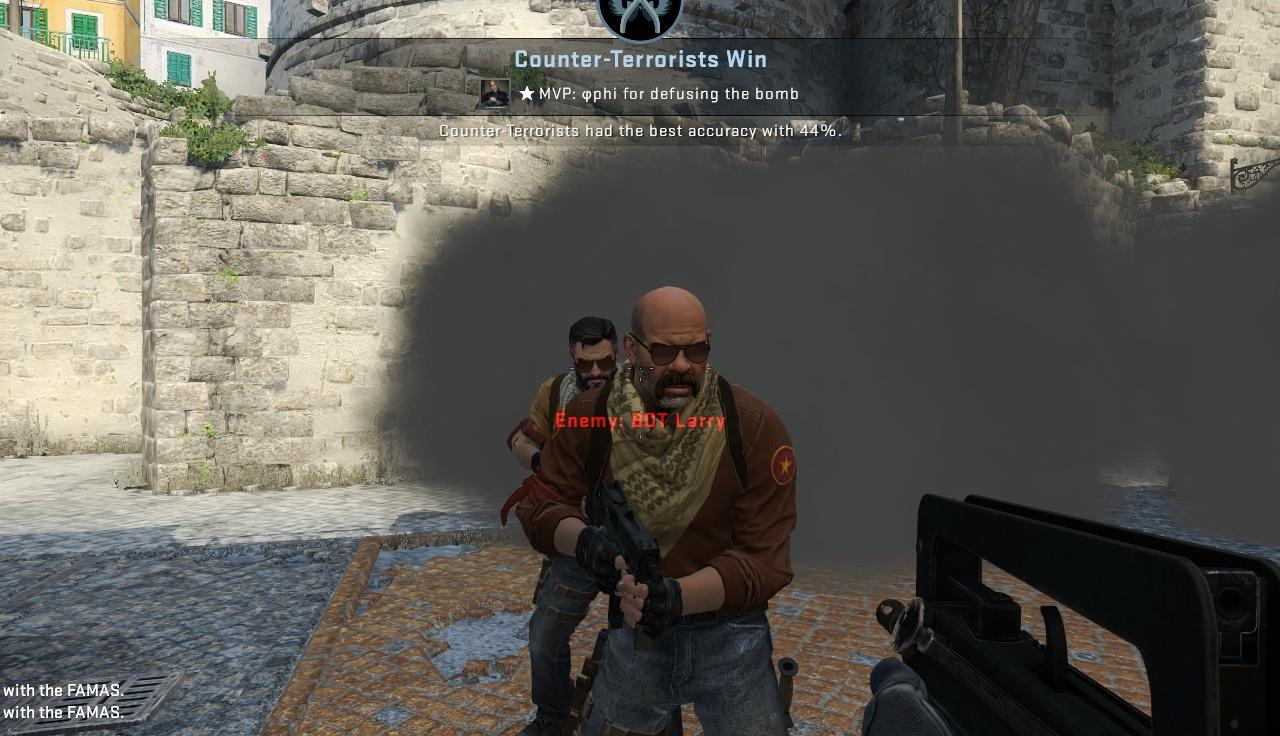rifle: (882, 495, 1280, 736)
tt: (649, 294, 804, 735), (523, 308, 651, 736)
tthead: (633, 285, 712, 403), (568, 317, 616, 385)
